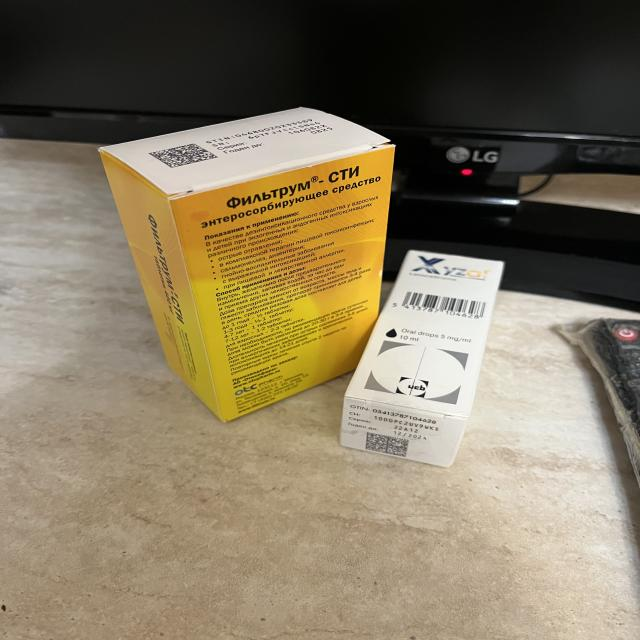datamatrix: (150, 145, 220, 169), (366, 433, 410, 458)
